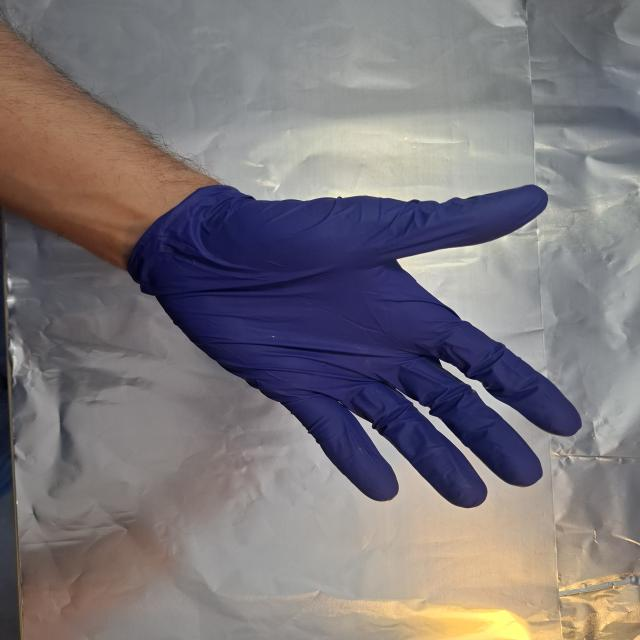glove_on: (126, 180, 589, 510)
